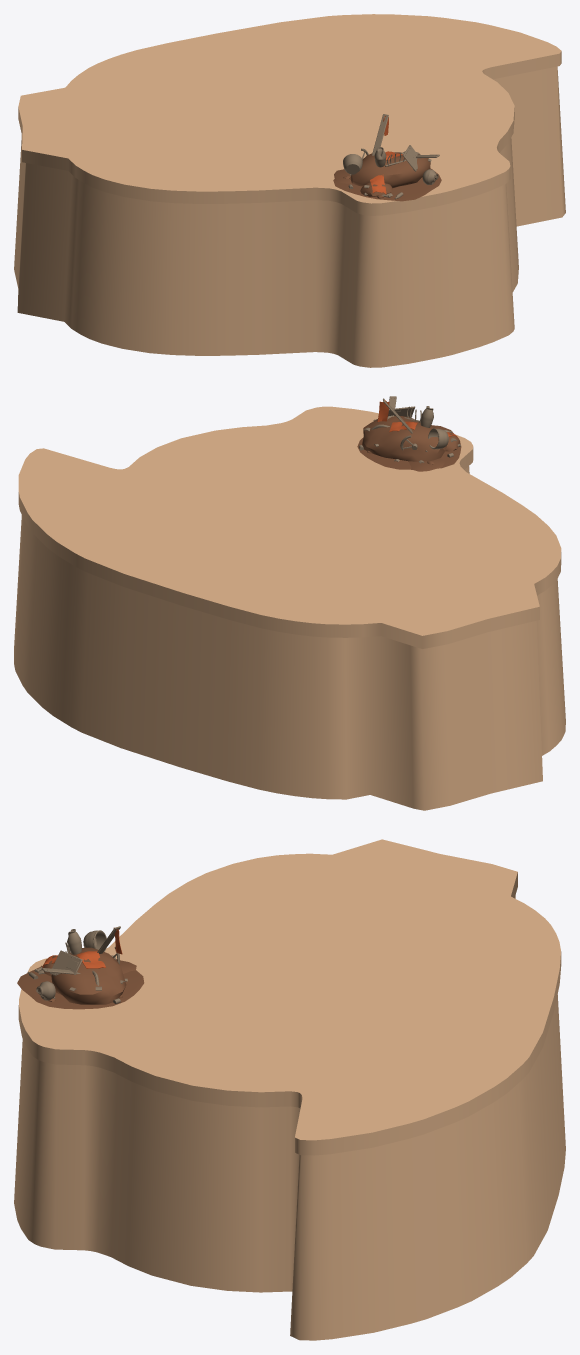
Rendered from nomad_work_yard.fbx.
The picture shows the model from 3 angles, top to bottom: view 1: azimuth 30°, elevation 25°; view 2: azimuth 150°, elevation 25°; view 3: azimuth 270°, elevation 25°; orthographic projection. The views are drawn at different scales.
Parts seen in each view (by area): view 1: NomadWorkYard; view 2: NomadWorkYard; view 3: NomadWorkYard.
Part boxes in pixels (<box>): NomadWorkYard: <box>14,14,565,367</box>; NomadWorkYard: <box>14,396,565,810</box>; NomadWorkYard: <box>14,839,565,1340</box>.
Bounding box in the file's own units: 1330 × 532 × 1016.
